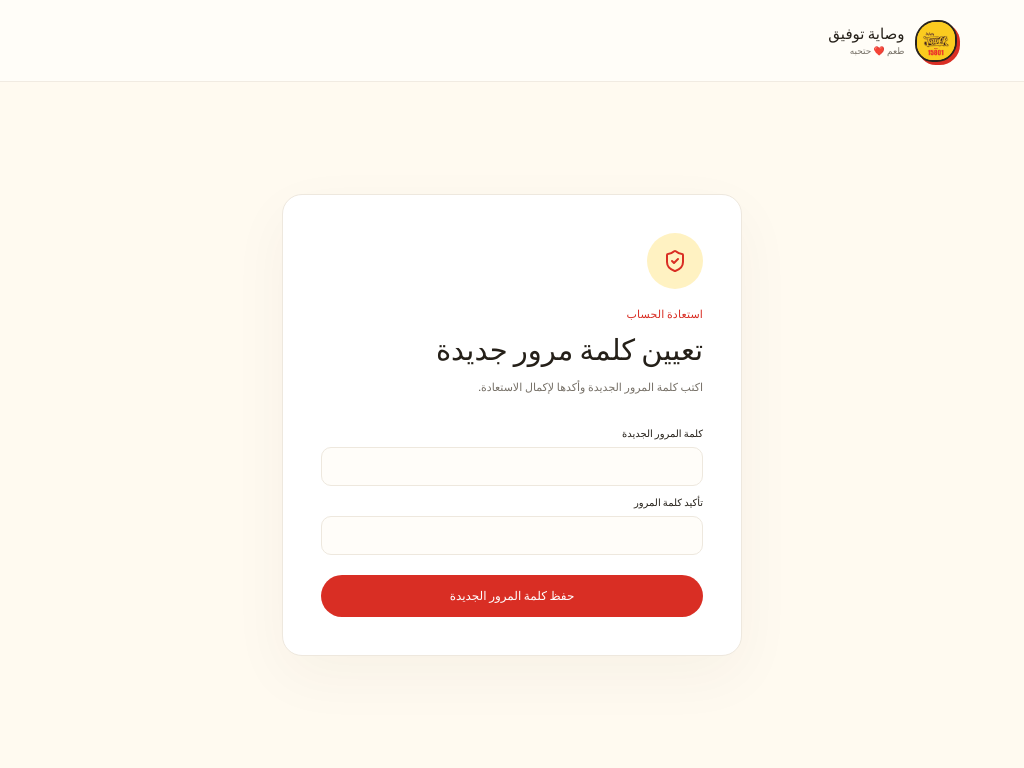
Test: admin password recovery › updates the password only after a recovery event and a matching active session
In the password field labelled "كلمة المرور الجديدة": {"x": 512, "y": 466} [321,447,703,486], type "new-secret-password"
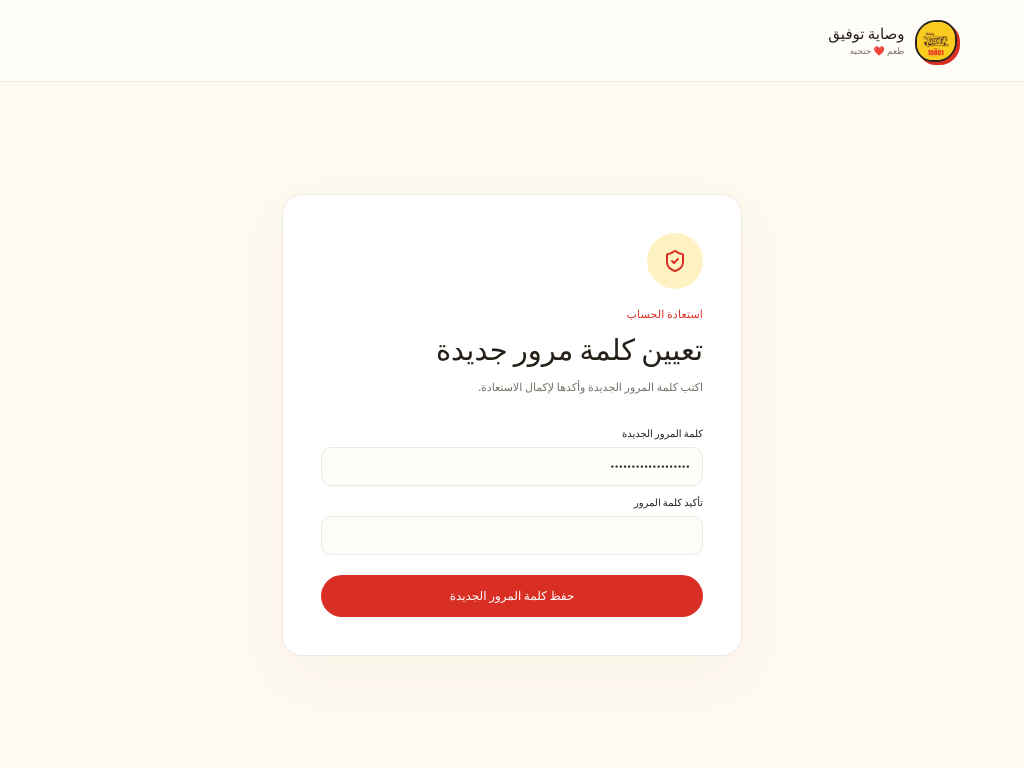
In the password field labelled "تأكيد كلمة المرور": {"x": 512, "y": 536} [321,516,703,555], type "new-secret-password"
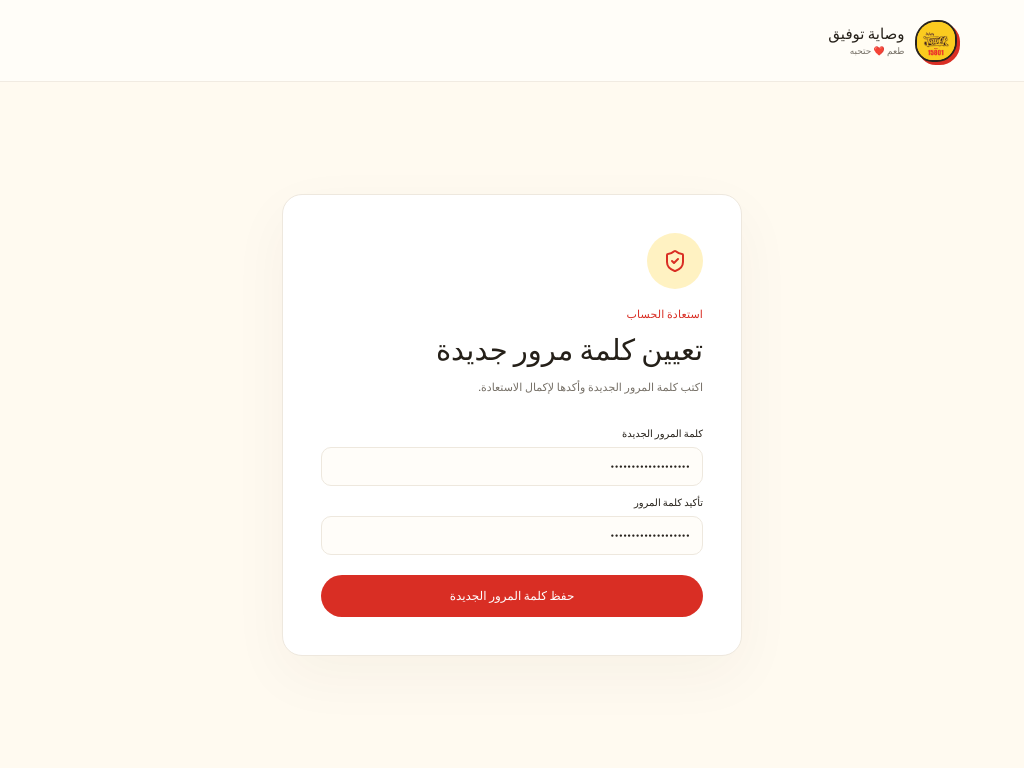
Click the button "حفظ كلمة المرور الجديدة": {"x": 512, "y": 596} [321,575,703,617]
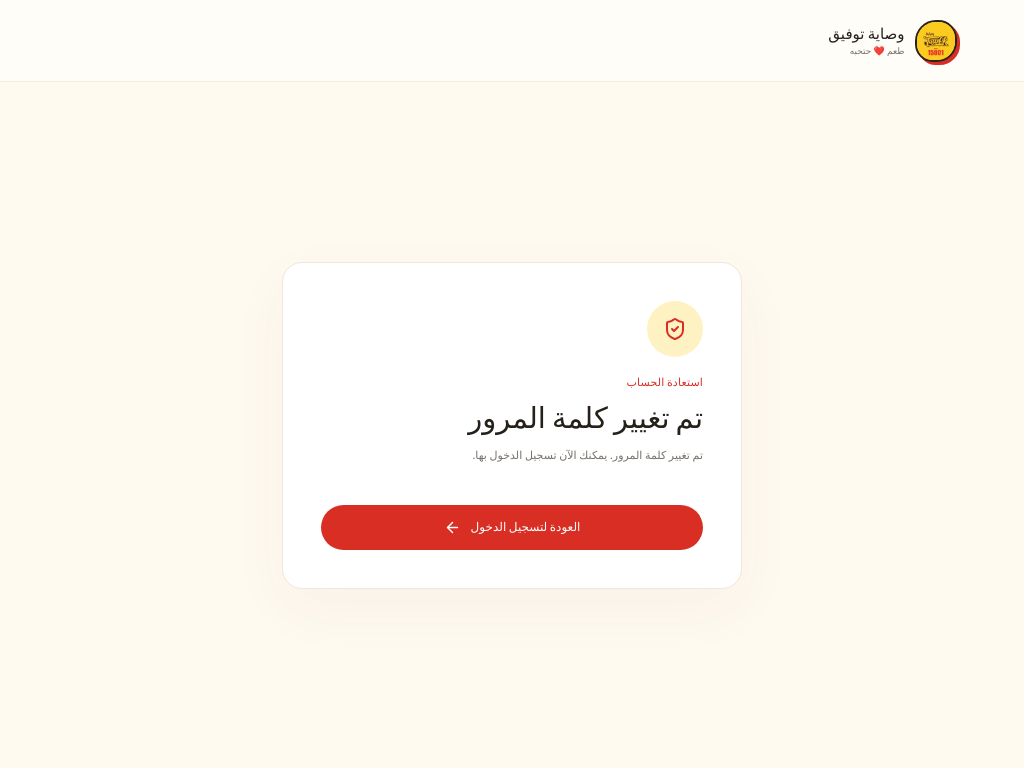
Expected: the message shows "تم تغيير كلمة المرور", [473,448,703,462]
